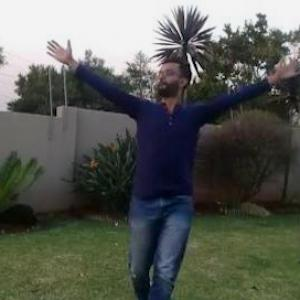takeoff: (50, 39, 299, 292)
